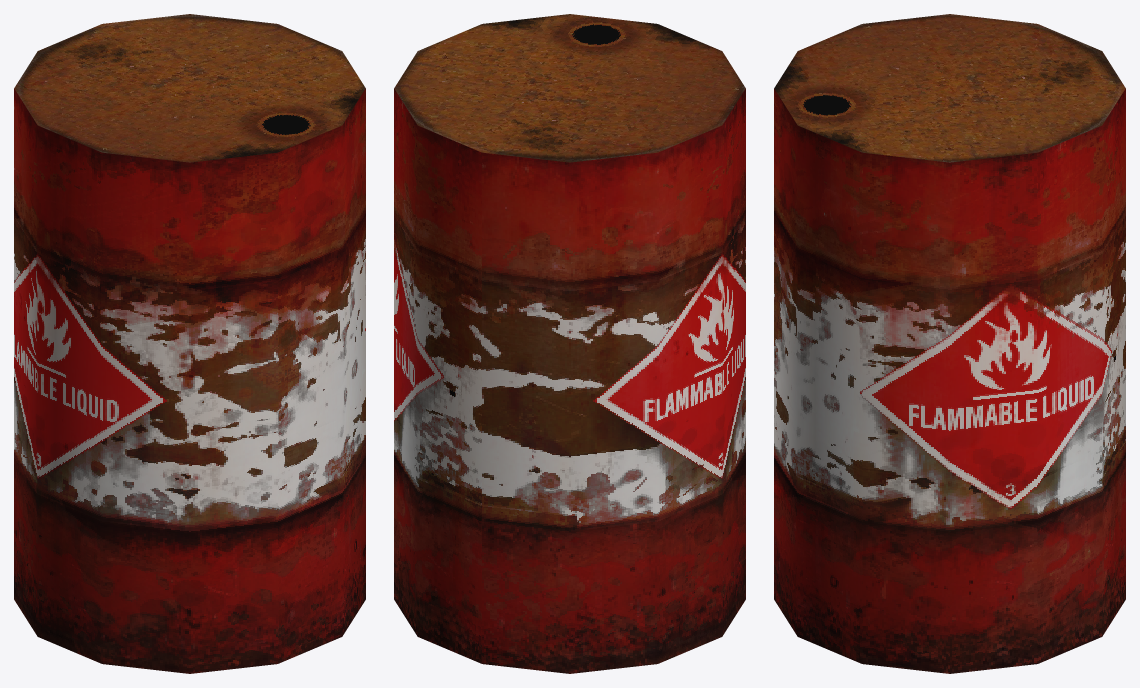
File: barrel.glb
The picture shows the model from 3 angles, left to right: view 1: azimuth 30°, elevation 25°; view 2: azimuth 150°, elevation 25°; view 3: azimuth 270°, elevation 25°; orthographic projection.
Visible parts, largest first — view 1: Cylinder_0; view 2: Cylinder_0; view 3: Cylinder_0.
Boxes of the visible parts, x1,y1,x2,y2 form: Cylinder_0: (14, 14, 365, 673); Cylinder_0: (394, 14, 745, 673); Cylinder_0: (774, 14, 1125, 673).
Bounding box in the file's own units: 2 × 3.21 × 2.
1 material, 1 textured.
